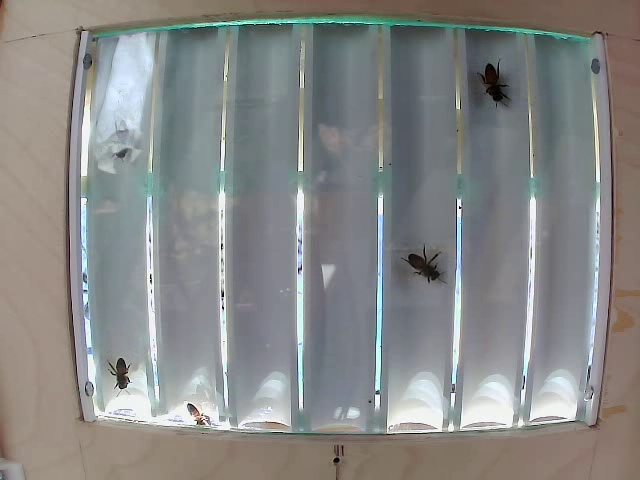bee: (401, 232, 448, 292), (469, 57, 511, 113), (102, 342, 139, 397)
